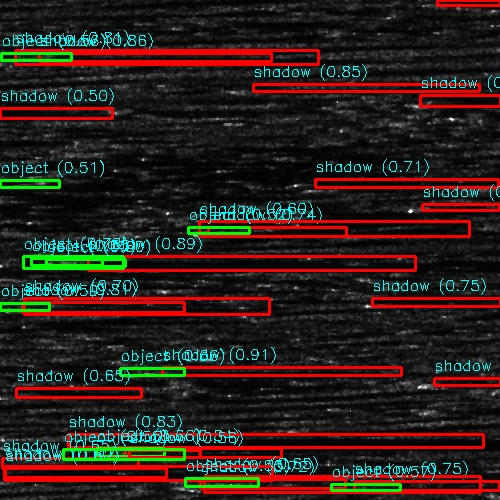rock: (15, 253, 130, 270), (176, 218, 239, 243), (0, 432, 63, 449), (383, 405, 476, 416), (399, 376, 482, 387), (156, 479, 249, 488), (394, 203, 477, 212), (117, 369, 200, 376), (0, 220, 15, 229)
shadow: (0, 432, 500, 449), (208, 218, 500, 243), (73, 253, 500, 270), (0, 178, 328, 195), (0, 276, 230, 293), (0, 466, 227, 479), (0, 459, 180, 470), (159, 369, 388, 376), (203, 479, 320, 488), (430, 405, 500, 416), (441, 376, 500, 387), (436, 203, 500, 212), (0, 220, 58, 229), (0, 398, 52, 407), (0, 361, 79, 366)
